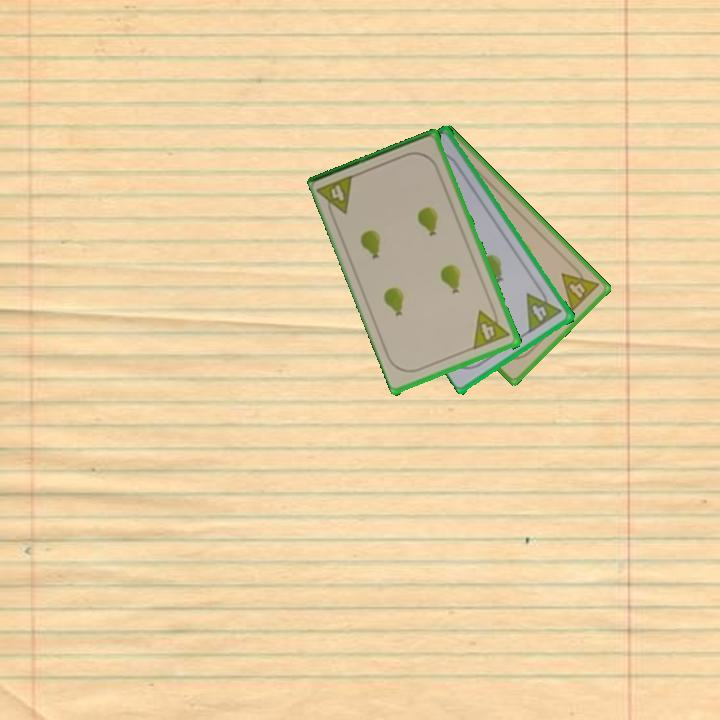4p: (558, 260, 602, 315), (315, 171, 358, 222), (470, 303, 513, 352), (523, 292, 553, 333)
